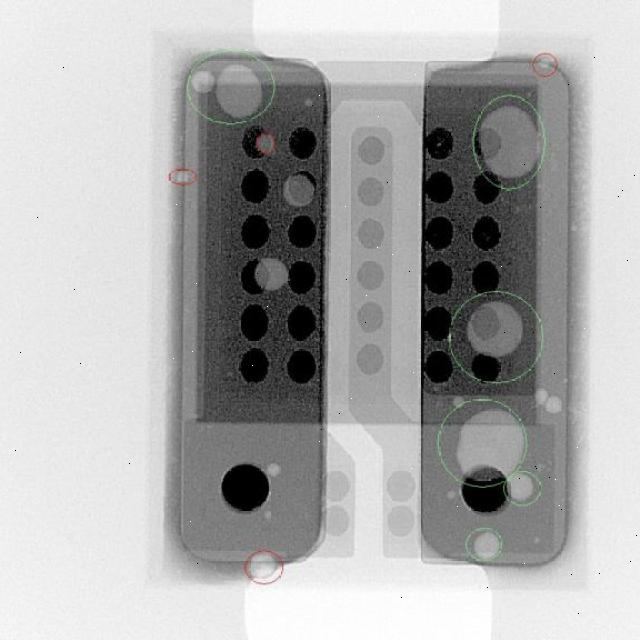void: (480, 106, 540, 178), (456, 410, 523, 474), (467, 302, 521, 357), (216, 64, 263, 118), (243, 551, 282, 584), (283, 173, 314, 207), (254, 260, 287, 291), (507, 472, 536, 504), (470, 530, 500, 560), (191, 70, 214, 93), (168, 169, 196, 187), (254, 131, 273, 156), (543, 396, 561, 413), (267, 463, 279, 477), (537, 390, 544, 402)
